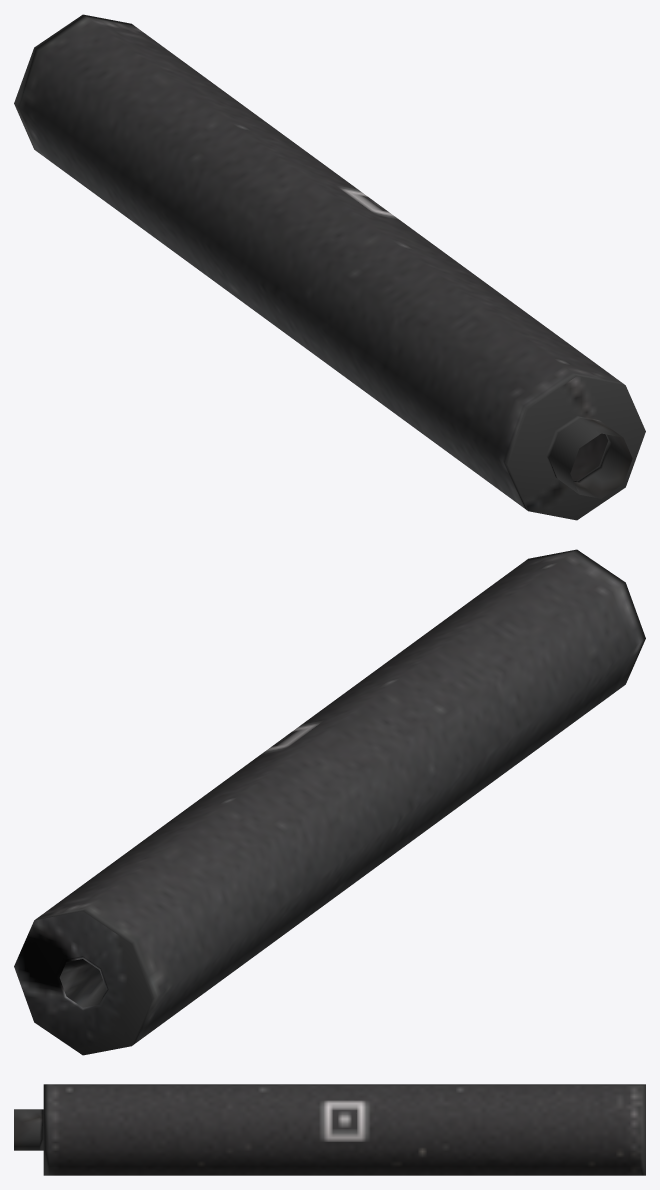
File: Silencer_wm.fbx
The picture shows the model from 3 angles, top to bottom: view 1: azimuth 30°, elevation 25°; view 2: azimuth 150°, elevation 25°; view 3: azimuth 270°, elevation 25°; orthographic projection. The views are drawn at different scales.
Visible parts, largest first — view 1: Silencer; view 2: Silencer; view 3: Silencer.
Part boxes in pixels (<box>): Silencer: <box>14,14,645,520</box>; Silencer: <box>14,549,645,1055</box>; Silencer: <box>14,1084,645,1175</box>.
Bounding box in the file's own units: 0.0231 × 0.1503 × 0.0231.
